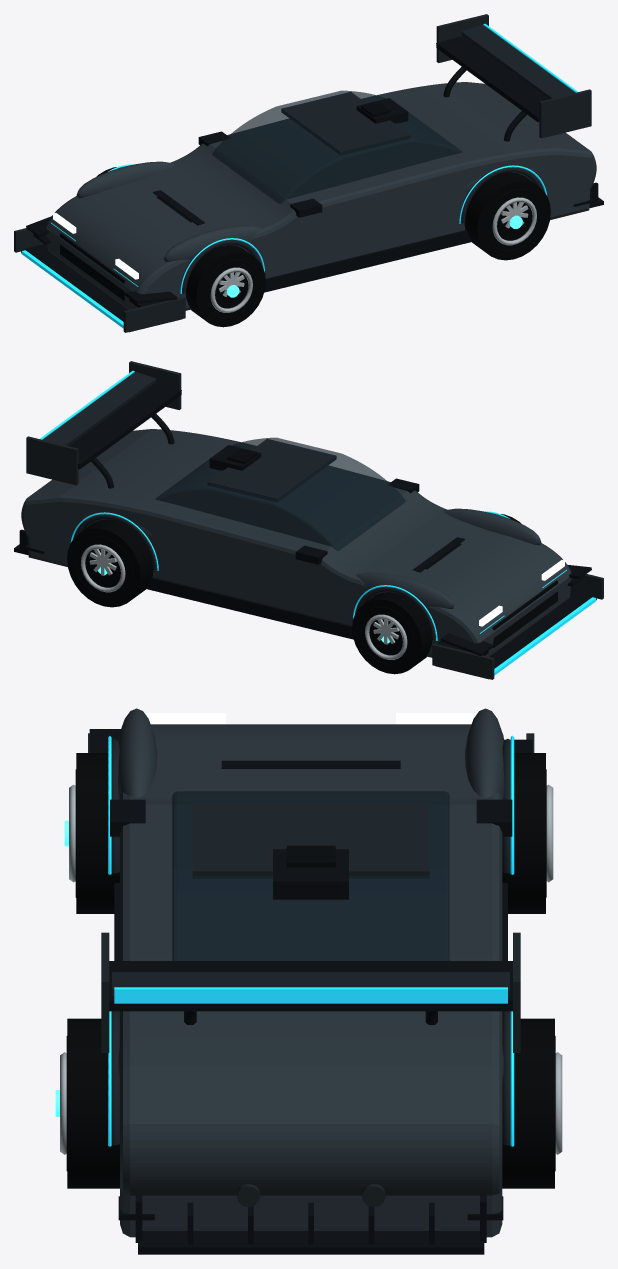
The model's file is aeroflow-gt3-endurance.glb.
3 views of the same model, one above another, from view 1: azimuth 30°, elevation 25°; view 2: azimuth 150°, elevation 25°; view 3: azimuth 270°, elevation 25° (orthographic). The views are drawn at different scales.
Parts seen in each view (by area): view 1: BodyShell, Greenhouse, Tire (×2), RoofPanel, RearWingMain, SideSkirt_Right, RearWingFlap, RearWingEndplate_Right, FrontSplitter, FenderShoulder_Front_Left, FenderShoulder_Front_Right, SplitterEndplate_Right (+13 smaller); view 2: BodyShell, Greenhouse, Tire (×2), RoofPanel, RearWingMain, SideSkirt_Left, RearWingFlap, RearWingEndplate_Left, FrontSplitter, FenderShoulder_Front_Right, FenderShoulder_Front_Left, SplitterEndplate_Left (+13 smaller); view 3: BodyShell, Greenhouse, Tire (×4), RoofPanel, RearWingMain, DiffuserFloor, RearWingGurney, RearWingFlap, RoofScoop, FenderShoulder_Front_Left, FenderShoulder_Front_Right, AeroFlow_GT3_Endurance (+15 smaller).
Part boxes in pixels (x1,y1,x2,y2): BodyShell: (45,82,596,310); Greenhouse: (212,90,462,203); Tire (×2): (185,172,550,327); RoofPanel: (281,91,410,155); RearWingMain: (436,36,548,122); SideSkirt_Right: (264,230,472,292); RearWingFlap: (461,24,575,98); RearWingEndplate_Right: (539,89,591,138); FrontSplitter: (21,244,182,332); FenderShoulder_Front_Left: (76,161,174,198); FenderShoulder_Front_Right: (164,225,261,261); SplitterEndplate_Right: (123,296,185,332); BodyShell: (21,429,571,657); Greenhouse: (155,437,405,550); Tire (×2): (67,519,432,674); RoofPanel: (207,438,336,502); RearWingMain: (69,383,181,469); SideSkirt_Left: (145,577,353,639); RearWingFlap: (42,371,156,445); RearWingEndplate_Left: (26,436,78,485); FrontSplitter: (435,590,596,679); FenderShoulder_Front_Right: (443,508,541,545); FenderShoulder_Front_Left: (356,572,453,608); SplitterEndplate_Left: (432,643,494,679); BodyShell: (120,724,502,1237); Greenhouse: (172,791,449,960); Tire (×4): (67,753,554,1188); RoofPanel: (192,803,429,878); RearWingMain: (109,961,512,1011); DiffuserFloor: (138,1231,484,1254); RearWingGurney: (114,987,507,1003); RearWingFlap: (112,972,509,996); RoofScoop: (273,849,348,899); FenderShoulder_Front_Left: (465,708,504,799); FenderShoulder_Front_Right: (118,708,157,799); AeroFlow_GT3_Endurance: (108,735,514,1146).
Bounding box in the file's own units: 5.07 × 1.4 × 2.26.
